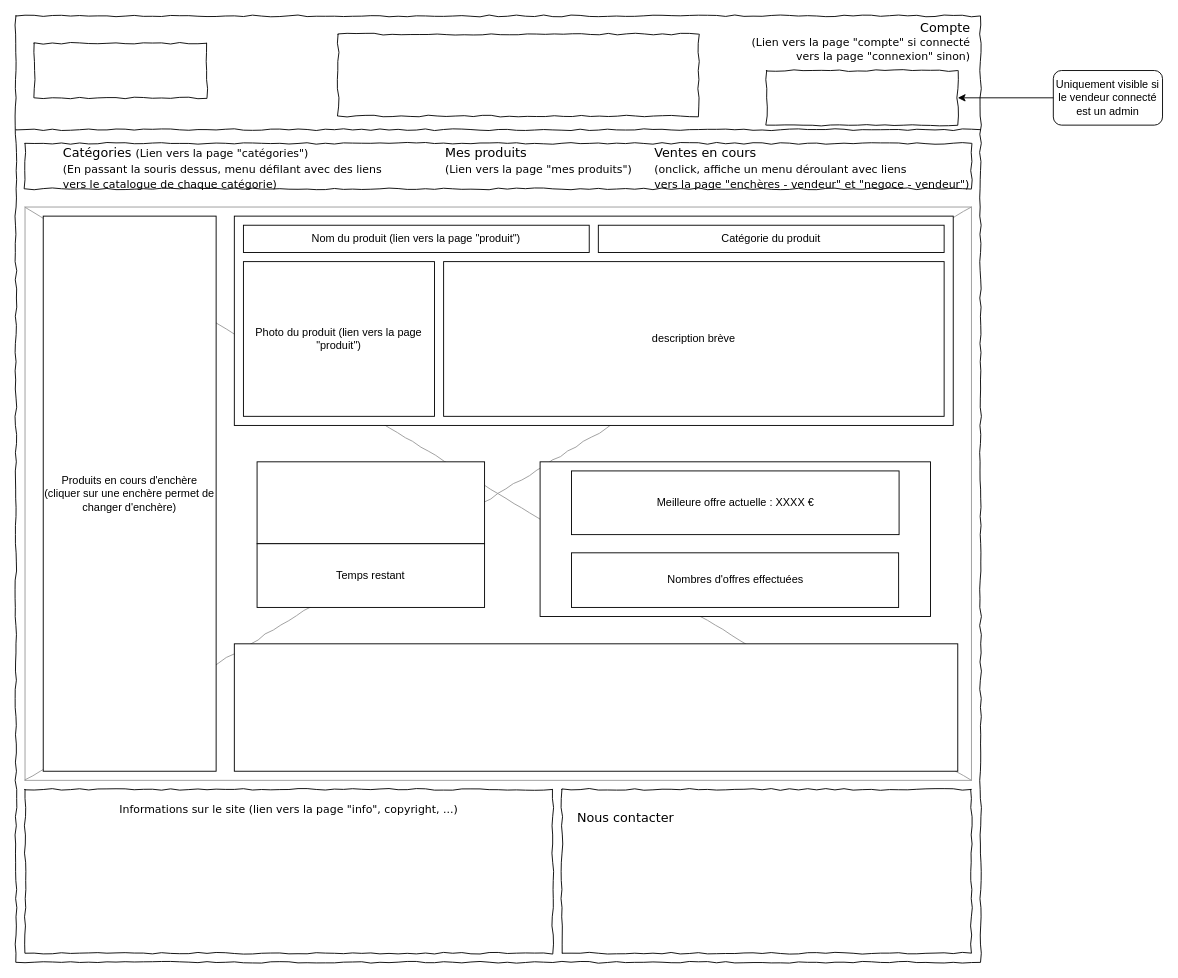
Image size: 1178x978. Some labels were removed from this diagram. Each missing label, with the centre of its shape:
Admin (Lien vers la page "liste vendeur"): (x=862, y=97)
Bienvenue ...: (x=517, y=74)
Date de fin de l'enchère: (x=370, y=502)
LOGO (Lien vers la page "accueil"): (x=120, y=70)
Règlement des enchères: (x=595, y=707)
